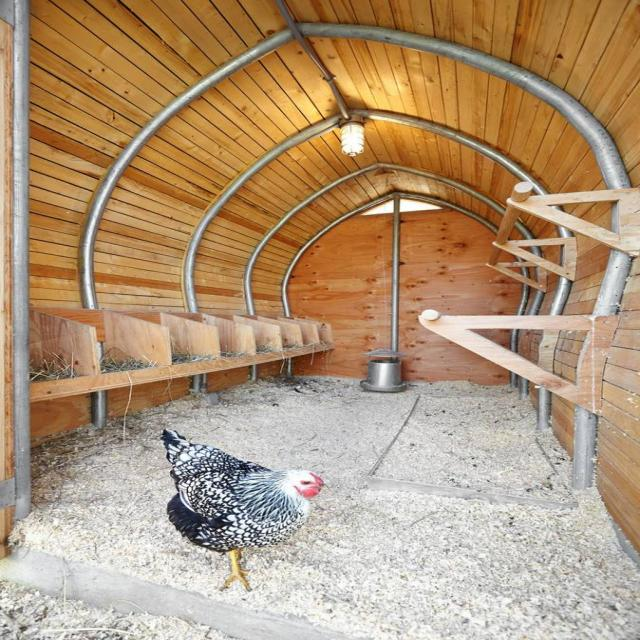Chicken: (152, 424, 317, 590)
